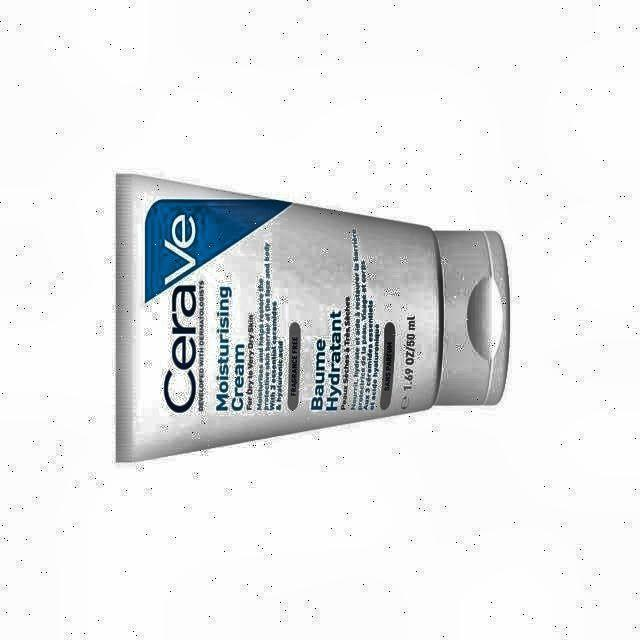plastic: (116, 175, 509, 461)
